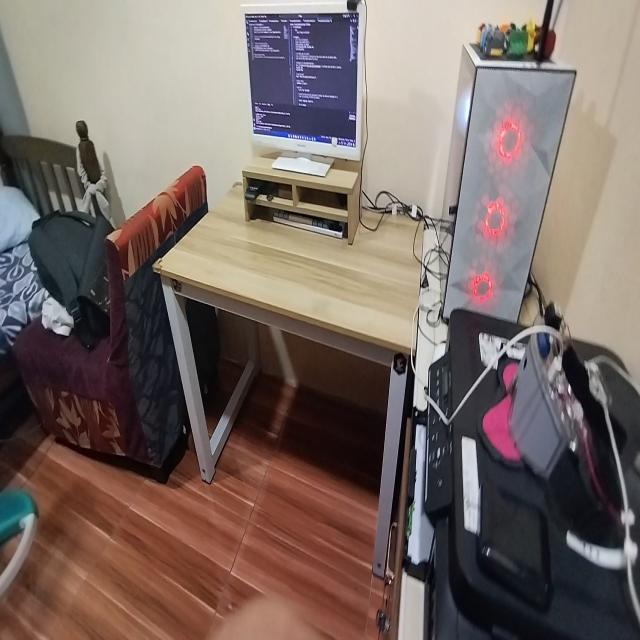table: (163, 165, 423, 552)
